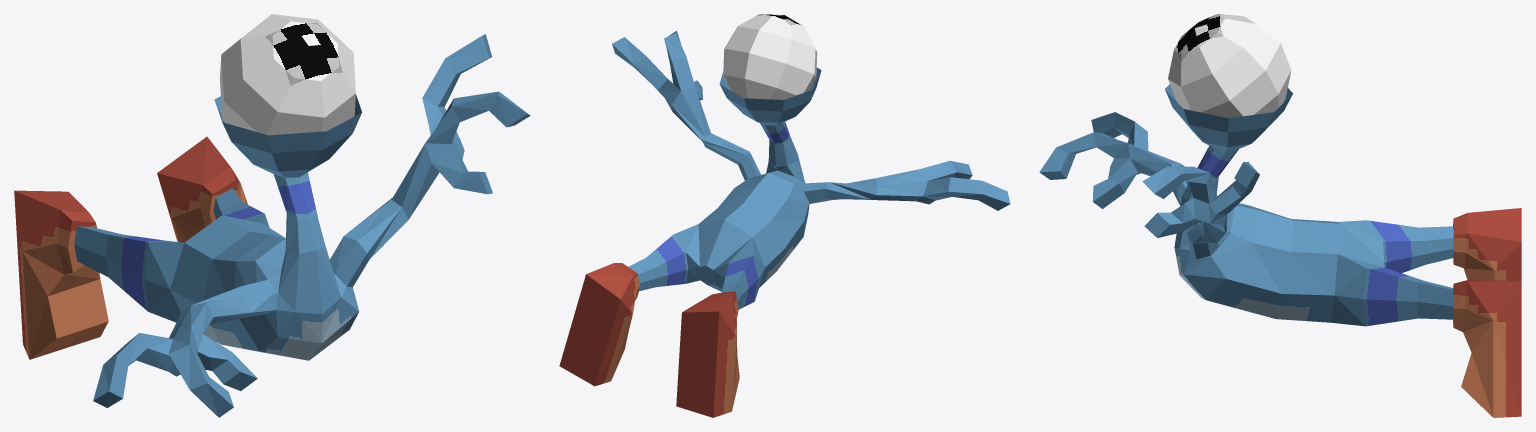
File: ned_hurt.obj
3 renders of one model, left to right at view 1: azimuth 30°, elevation 25°; view 2: azimuth 150°, elevation 25°; view 3: azimuth 270°, elevation 25°, orthographic. The views are drawn at different scales.
Parts seen in each view (by area): view 1: Sphere_Sphere.001; view 2: Sphere_Sphere.001; view 3: Sphere_Sphere.001.
Part boxes in pixels (box(x1,y1,x2,y2)): Sphere_Sphere.001: box(14, 14, 530, 417); Sphere_Sphere.001: box(559, 14, 1010, 417); Sphere_Sphere.001: box(1039, 14, 1521, 417).
Size of the model in its own units: 9.87 by 8.37 by 10.1.
